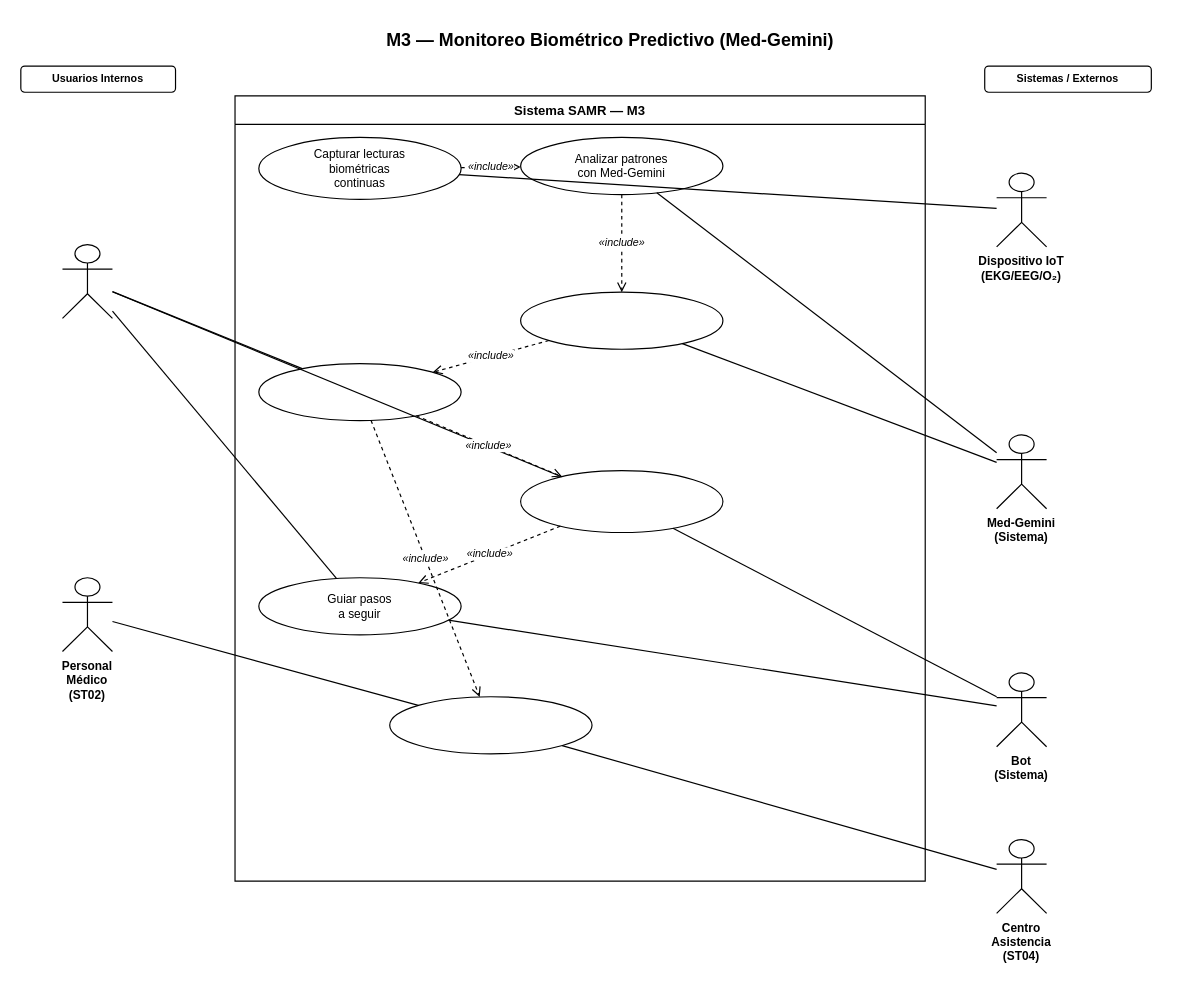
Image size: 1196x983. Some labels were removed from this diagram. Each missing label, with the box of its shape:
Detectar anomalía predictiva: (519, 291, 723, 349)
Explicar alerta al paciente vía bot + XAI: (519, 469, 723, 533)
Generar alerta proactiva: (258, 362, 461, 421)
Notificar a médico y centro: (389, 696, 592, 754)
Paciente (ST01): (61, 243, 112, 318)
